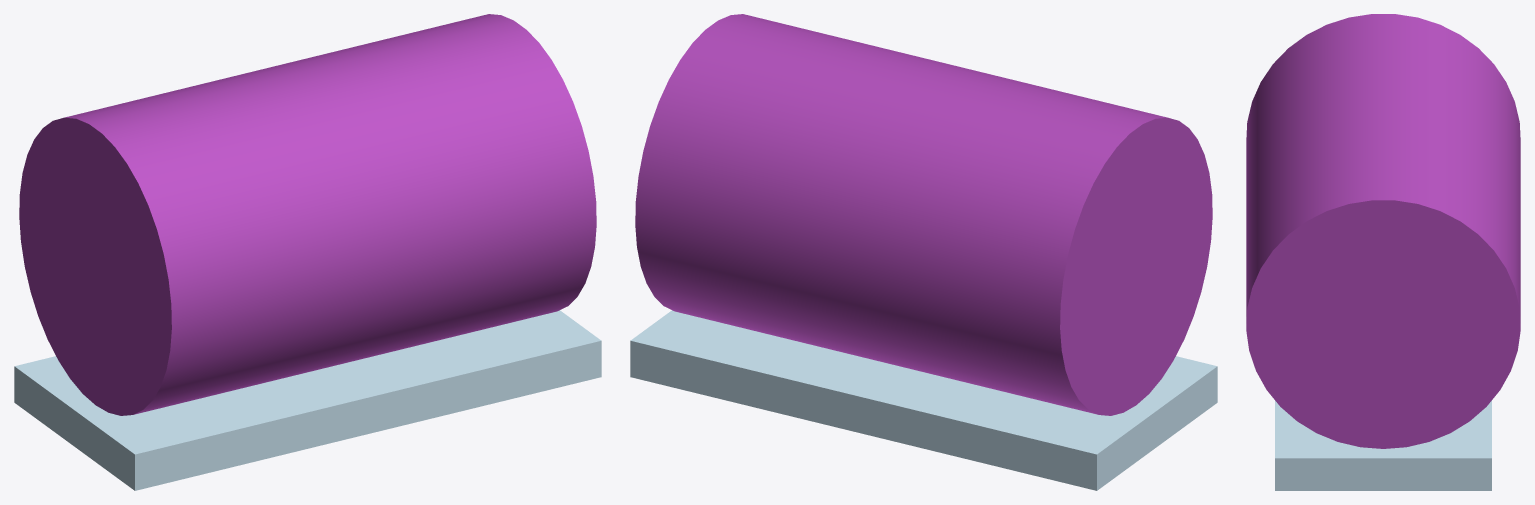
Rendered from FWD (1).glb.
3 views of the same model, side by side, from view 1: azimuth 30°, elevation 25°; view 2: azimuth 150°, elevation 25°; view 3: azimuth 270°, elevation 25° (orthographic). The views are drawn at different scales.
Visible parts, largest first — view 1: 689149c41cddb95a3e9142c9.001, 689149c41cddb95a3e9142c9; view 2: 689149c41cddb95a3e9142c9.001, 689149c41cddb95a3e9142c9; view 3: 689149c41cddb95a3e9142c9.001, 689149c41cddb95a3e9142c9.
Boxes of the visible parts, bbox=[...] form: 689149c41cddb95a3e9142c9.001: bbox=[19, 14, 596, 415]; 689149c41cddb95a3e9142c9: bbox=[14, 310, 601, 490]; 689149c41cddb95a3e9142c9.001: bbox=[635, 14, 1212, 415]; 689149c41cddb95a3e9142c9: bbox=[630, 310, 1217, 490]; 689149c41cddb95a3e9142c9.001: bbox=[1246, 14, 1520, 448]; 689149c41cddb95a3e9142c9: bbox=[1275, 400, 1491, 490].
Size of the model in its own units: 6.7 by 4.29 by 3.8.
